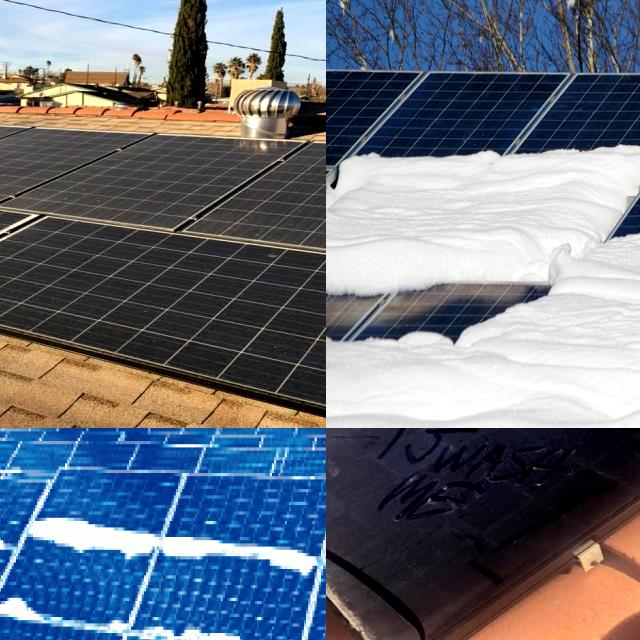dust: (326, 428, 640, 636), (326, 428, 473, 499), (382, 428, 562, 477), (467, 428, 593, 484)
panel: (168, 508, 308, 606), (12, 480, 158, 572), (28, 490, 159, 584), (352, 120, 507, 178), (529, 125, 640, 205), (464, 135, 640, 182), (431, 233, 541, 306), (326, 238, 419, 303), (138, 591, 260, 640), (419, 304, 496, 366), (326, 310, 402, 368), (0, 568, 61, 640), (549, 234, 593, 310), (0, 584, 61, 638), (0, 585, 53, 639), (598, 204, 640, 268), (326, 154, 354, 225), (0, 507, 36, 543), (0, 465, 39, 484), (0, 522, 16, 565), (0, 526, 19, 553)
